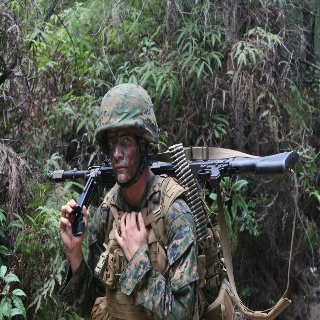rifle: (49, 149, 300, 186)
